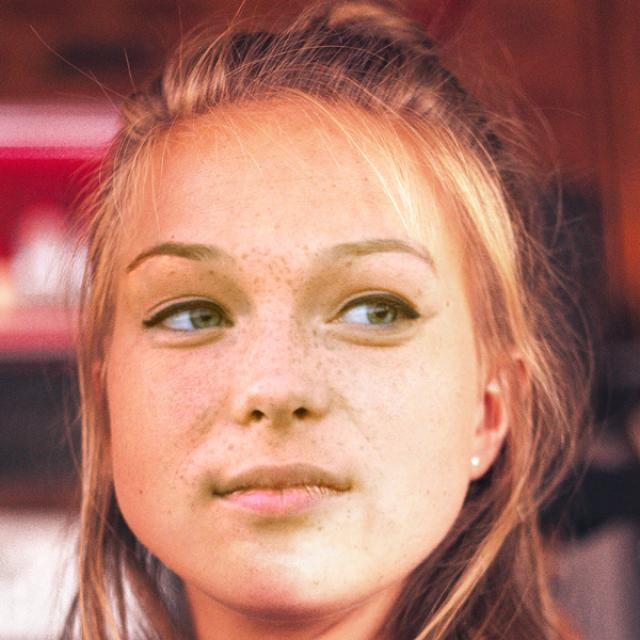face: (72, 103, 537, 618)
